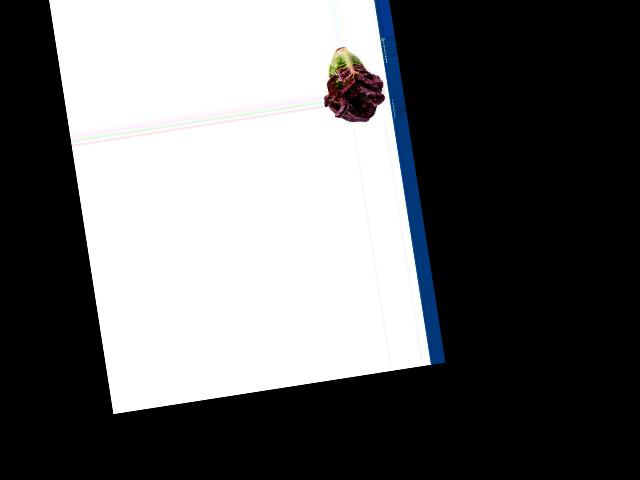lettuce: (318, 41, 388, 126)
